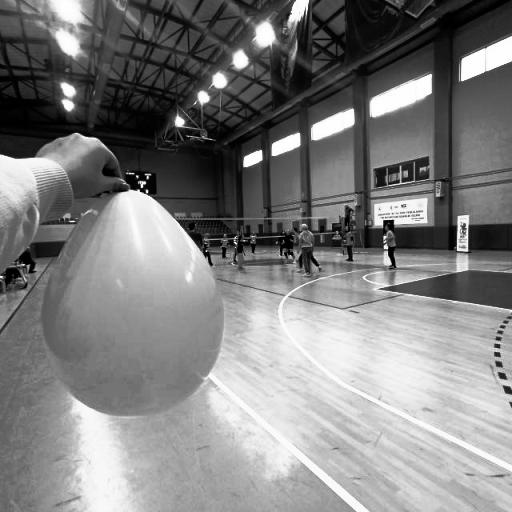balloon: (44, 189, 226, 418)
